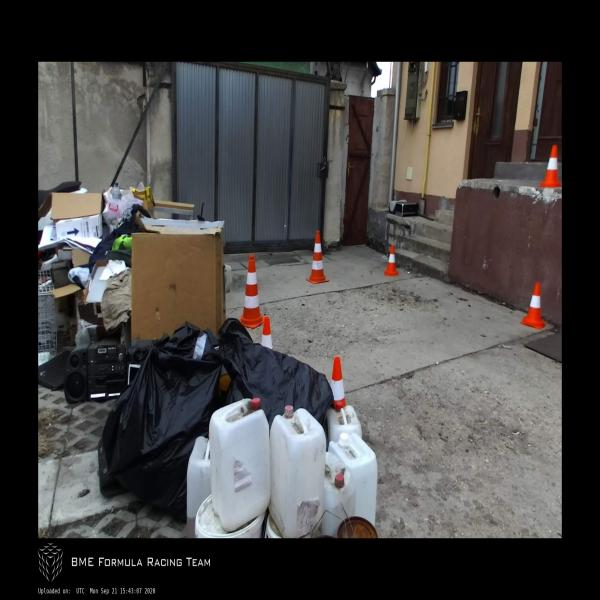large_orange_cone: (239, 256, 264, 328), (306, 230, 329, 284)
orange_cone: (521, 282, 546, 329), (540, 145, 562, 187), (332, 357, 345, 411), (384, 245, 398, 276), (261, 318, 272, 350)
